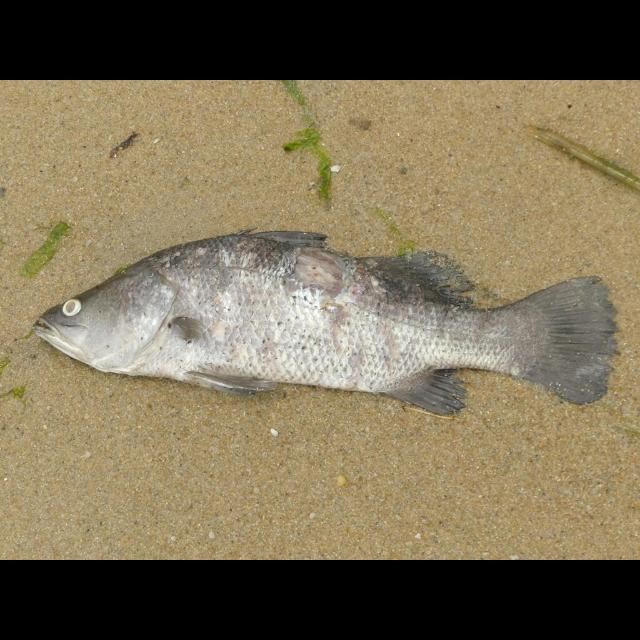Seabass: (34, 228, 618, 414)
